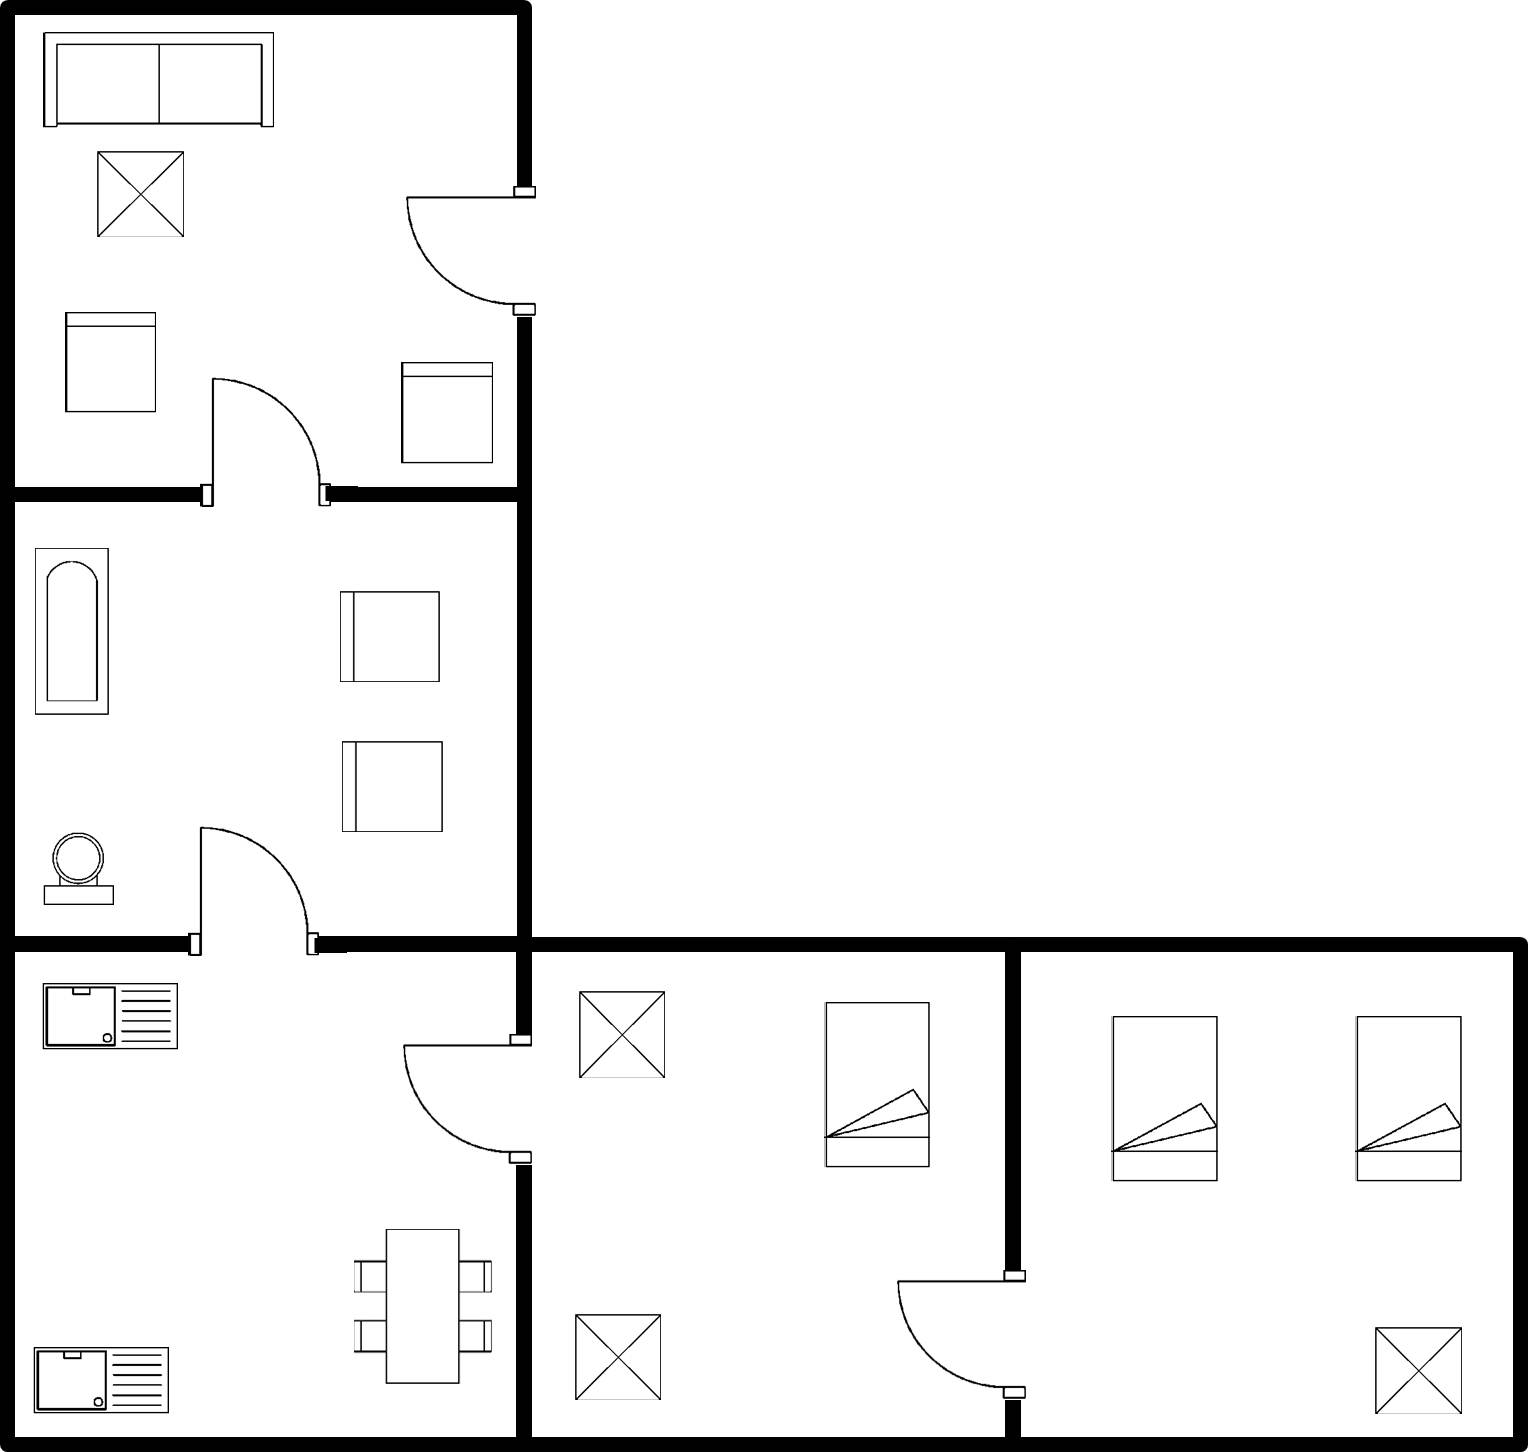bed: (812, 992, 941, 1179), (1344, 1007, 1471, 1196), (1102, 1007, 1230, 1192)
coffee_table: (564, 1303, 675, 1409), (562, 982, 675, 1084), (1367, 1314, 1472, 1422), (89, 145, 195, 247)
dining_table: (338, 1219, 500, 1393)
large_sink: (37, 822, 122, 912)
large_sofa: (34, 23, 283, 137)
sink: (34, 976, 192, 1065), (26, 1340, 176, 1419)
small_sofa: (326, 581, 447, 699), (324, 731, 453, 840), (393, 353, 502, 474), (57, 305, 164, 426)
tub: (26, 540, 119, 723)
